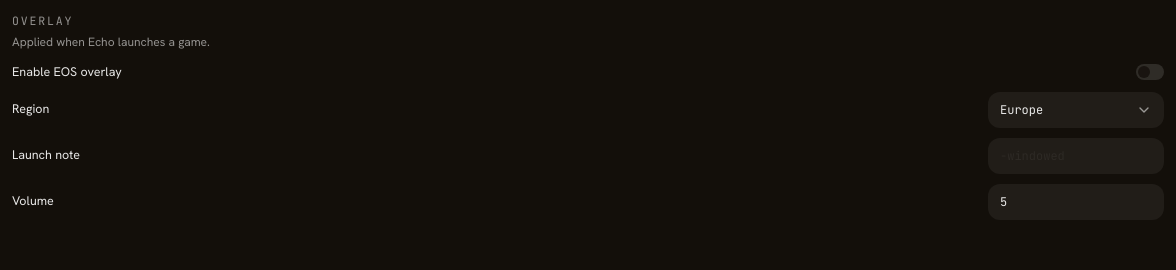
Test: plugin settings › puts a refused value back and says why
Click the switch named "Enable EOS overlay" at (1150, 72), box [1136,64,1164,80]
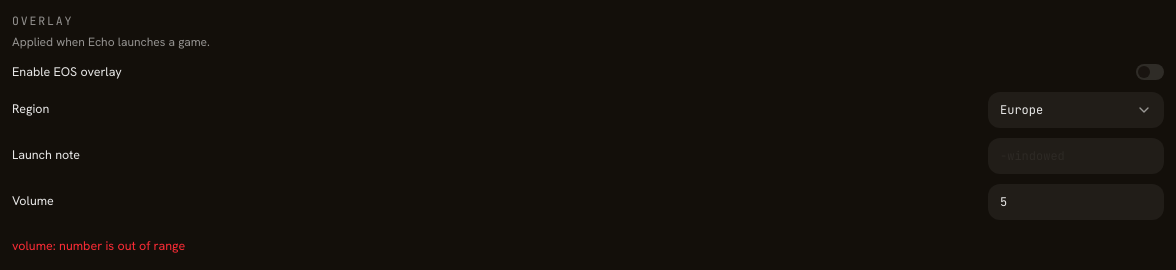
Now the message reads "volume: number is out of range", box [12,236,185,254]
